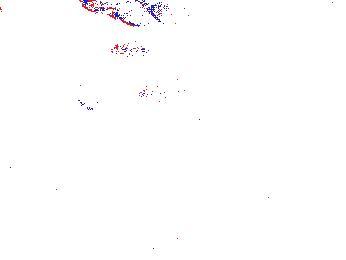red belly glassfish: (136, 83, 188, 106), (109, 42, 154, 57), (321, 1, 342, 16)
redtail glassfish: (76, 1, 165, 24)
